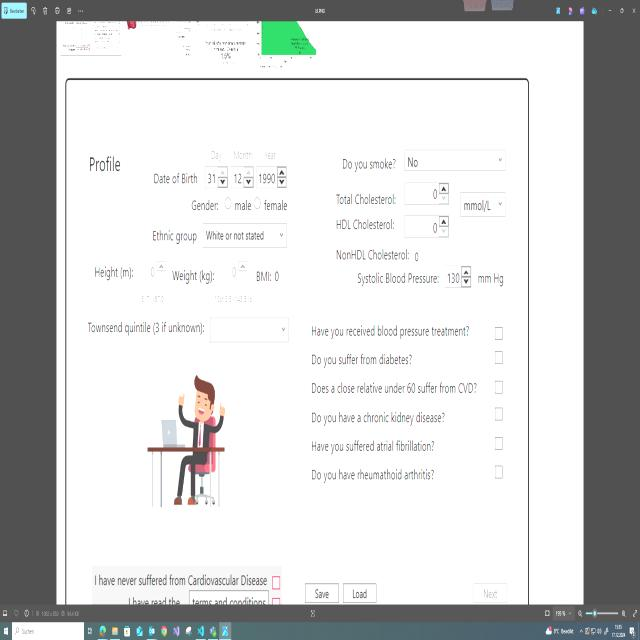button: (189, 590, 269, 613), (302, 578, 340, 607), (471, 579, 509, 608), (342, 580, 379, 606)
checkbox: (492, 459, 504, 486), (493, 322, 504, 343), (494, 404, 504, 426), (493, 347, 503, 368), (494, 377, 504, 398), (271, 573, 281, 592), (494, 434, 504, 452), (271, 596, 282, 612)
dropdownMenu: (208, 312, 290, 347), (403, 146, 507, 173), (202, 220, 289, 252), (458, 188, 510, 222)
input: (12, 620, 84, 640)
label: (93, 567, 270, 587), (308, 378, 481, 398), (310, 319, 474, 340), (85, 316, 207, 342), (308, 464, 438, 488), (309, 406, 450, 428), (309, 436, 438, 458), (310, 349, 417, 372), (353, 270, 441, 289), (331, 190, 400, 212), (334, 214, 396, 238), (332, 248, 420, 264), (338, 152, 399, 174), (150, 223, 197, 248), (85, 153, 126, 180), (151, 168, 199, 190), (90, 260, 135, 283), (125, 593, 182, 611), (171, 265, 215, 286), (212, 290, 256, 308), (187, 194, 223, 215), (476, 266, 506, 290), (254, 267, 284, 289), (136, 292, 168, 307), (264, 197, 290, 213), (204, 145, 226, 162), (232, 144, 254, 161), (234, 199, 252, 216), (262, 143, 278, 160)
radio: (224, 195, 232, 211), (253, 196, 261, 212)
upDown: (402, 176, 450, 208), (402, 213, 452, 241), (136, 257, 168, 290), (256, 162, 289, 192), (218, 255, 248, 287), (443, 262, 473, 292), (230, 163, 255, 192), (202, 164, 229, 190)
